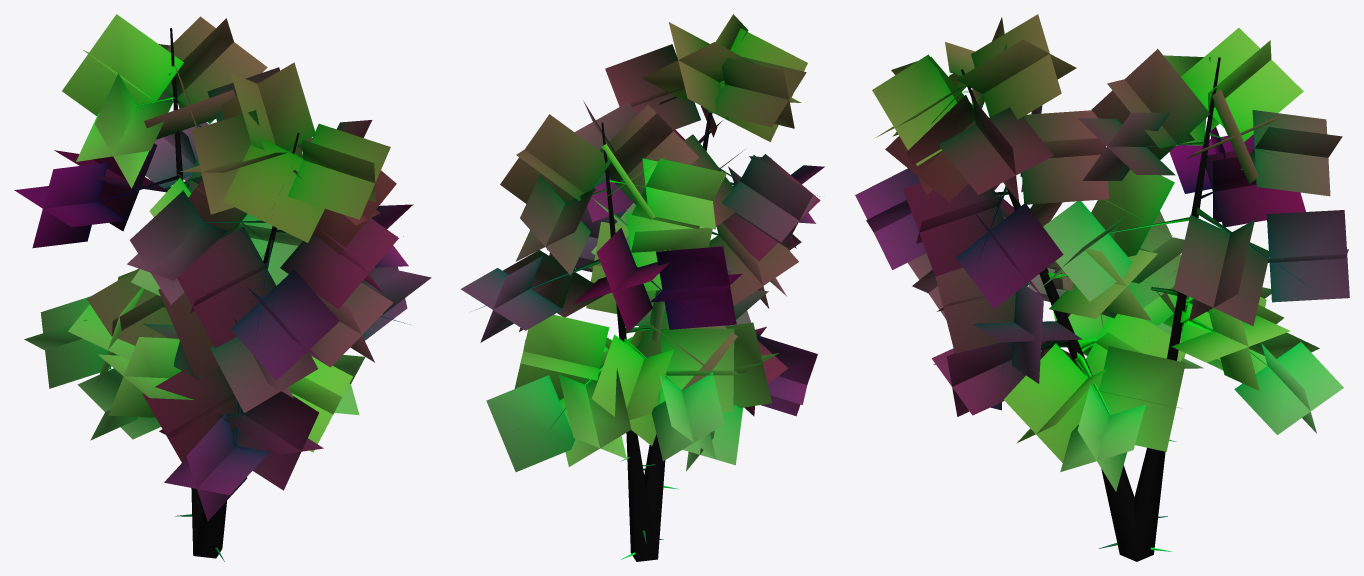
File: URP_P7_Tree_6_LOD_3.fbx
The picture shows the model from 3 angles, left to right: view 1: azimuth 30°, elevation 25°; view 2: azimuth 150°, elevation 25°; view 3: azimuth 270°, elevation 25°; orthographic projection. The views are drawn at different scales.
Parts seen in each view (by area): view 1: Tree_6_LOD_3; view 2: Tree_6_LOD_3; view 3: Tree_6_LOD_3.
Boxes of the visible parts, left/top/right/bottom form: Tree_6_LOD_3: left=14, top=14, right=431, bottom=561; Tree_6_LOD_3: left=460, top=14, right=824, bottom=561; Tree_6_LOD_3: left=855, top=14, right=1349, bottom=561.
Size of the model in its own units: 242 by 412 by 348.
